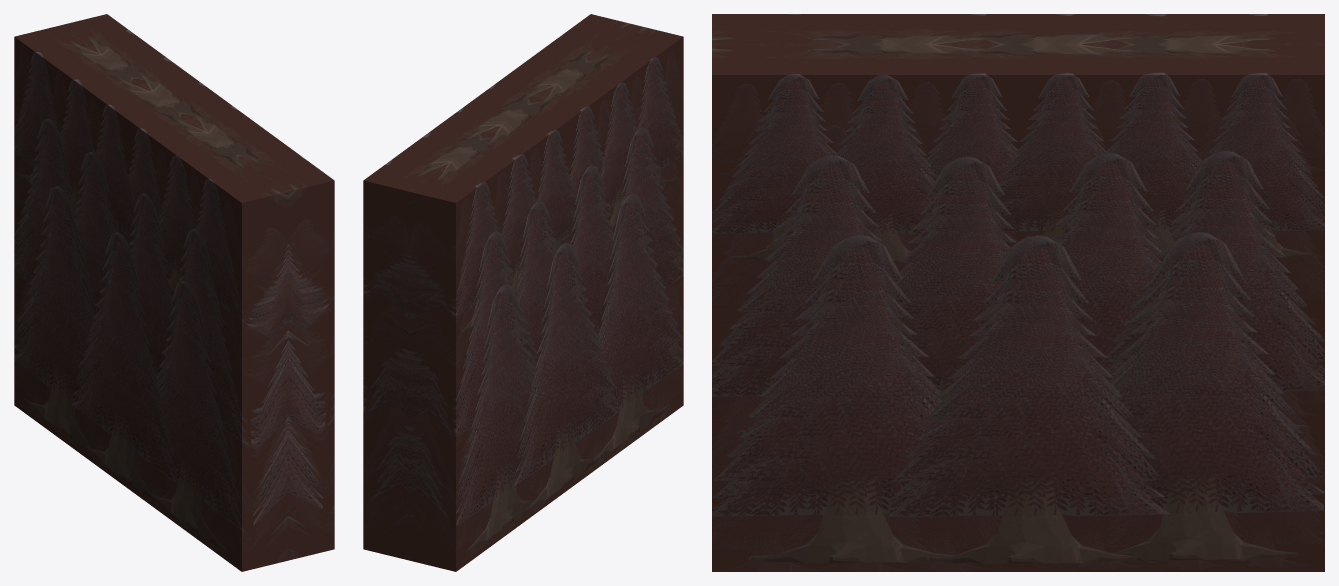
File: wallThree's.fbx
3 views of the same model, side by side, from view 1: azimuth 30°, elevation 25°; view 2: azimuth 150°, elevation 25°; view 3: azimuth 270°, elevation 25° (orthographic). The views are drawn at different scales.
Visible parts, largest first — view 1: wallThree's; view 2: wallThree's; view 3: wallThree's.
Boxes of the visible parts, x1,y1,x2,y2 form: wallThree's: (14,14,334,571); wallThree's: (363,14,683,571); wallThree's: (712,14,1324,571).
Size of the model in its own units: 3.95 by 15.03 by 16.8.
1 material, 1 textured.
